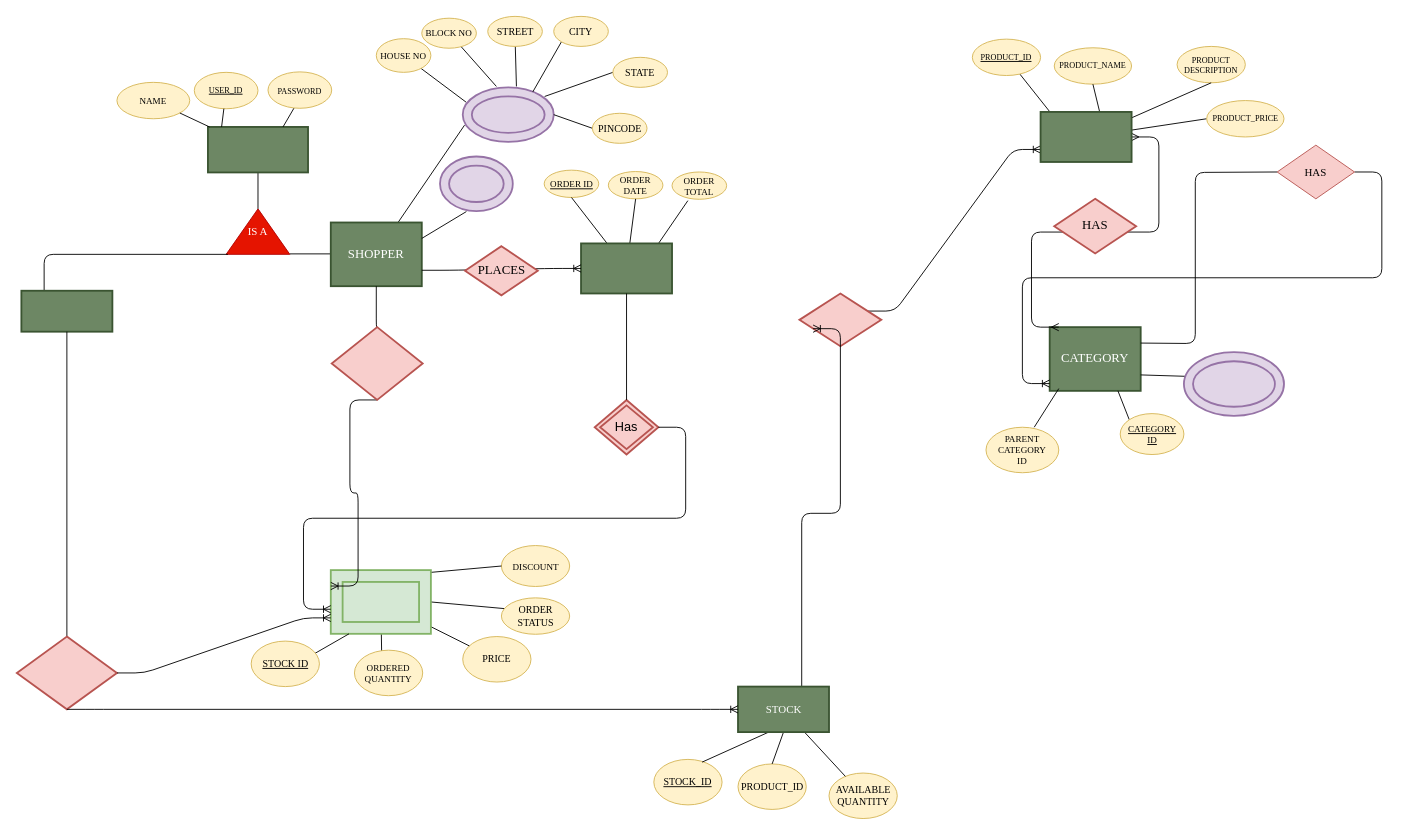
The diagram is 1405 pixels wide and 834 high, and some of its shapes have lost their labels. Here are the shapes that lost their labels. From the top down, the centre of each, then its label:
the point at 507,114: SHIPPING ADDRESS
the point at 257,149: USER
the point at 1085,136: PRODUCT
the point at 476,183: PHONE NO
the point at 626,268: ORDER
the point at 66,310: ADMIN
the point at 840,319: CONTAINS
the point at 376,363: CHANGE STATUS
the point at 1233,383: SUBCATEGORY ID
the point at 380,601: ORDER ITEM
the point at 66,672: CHECK AND MANAGE
